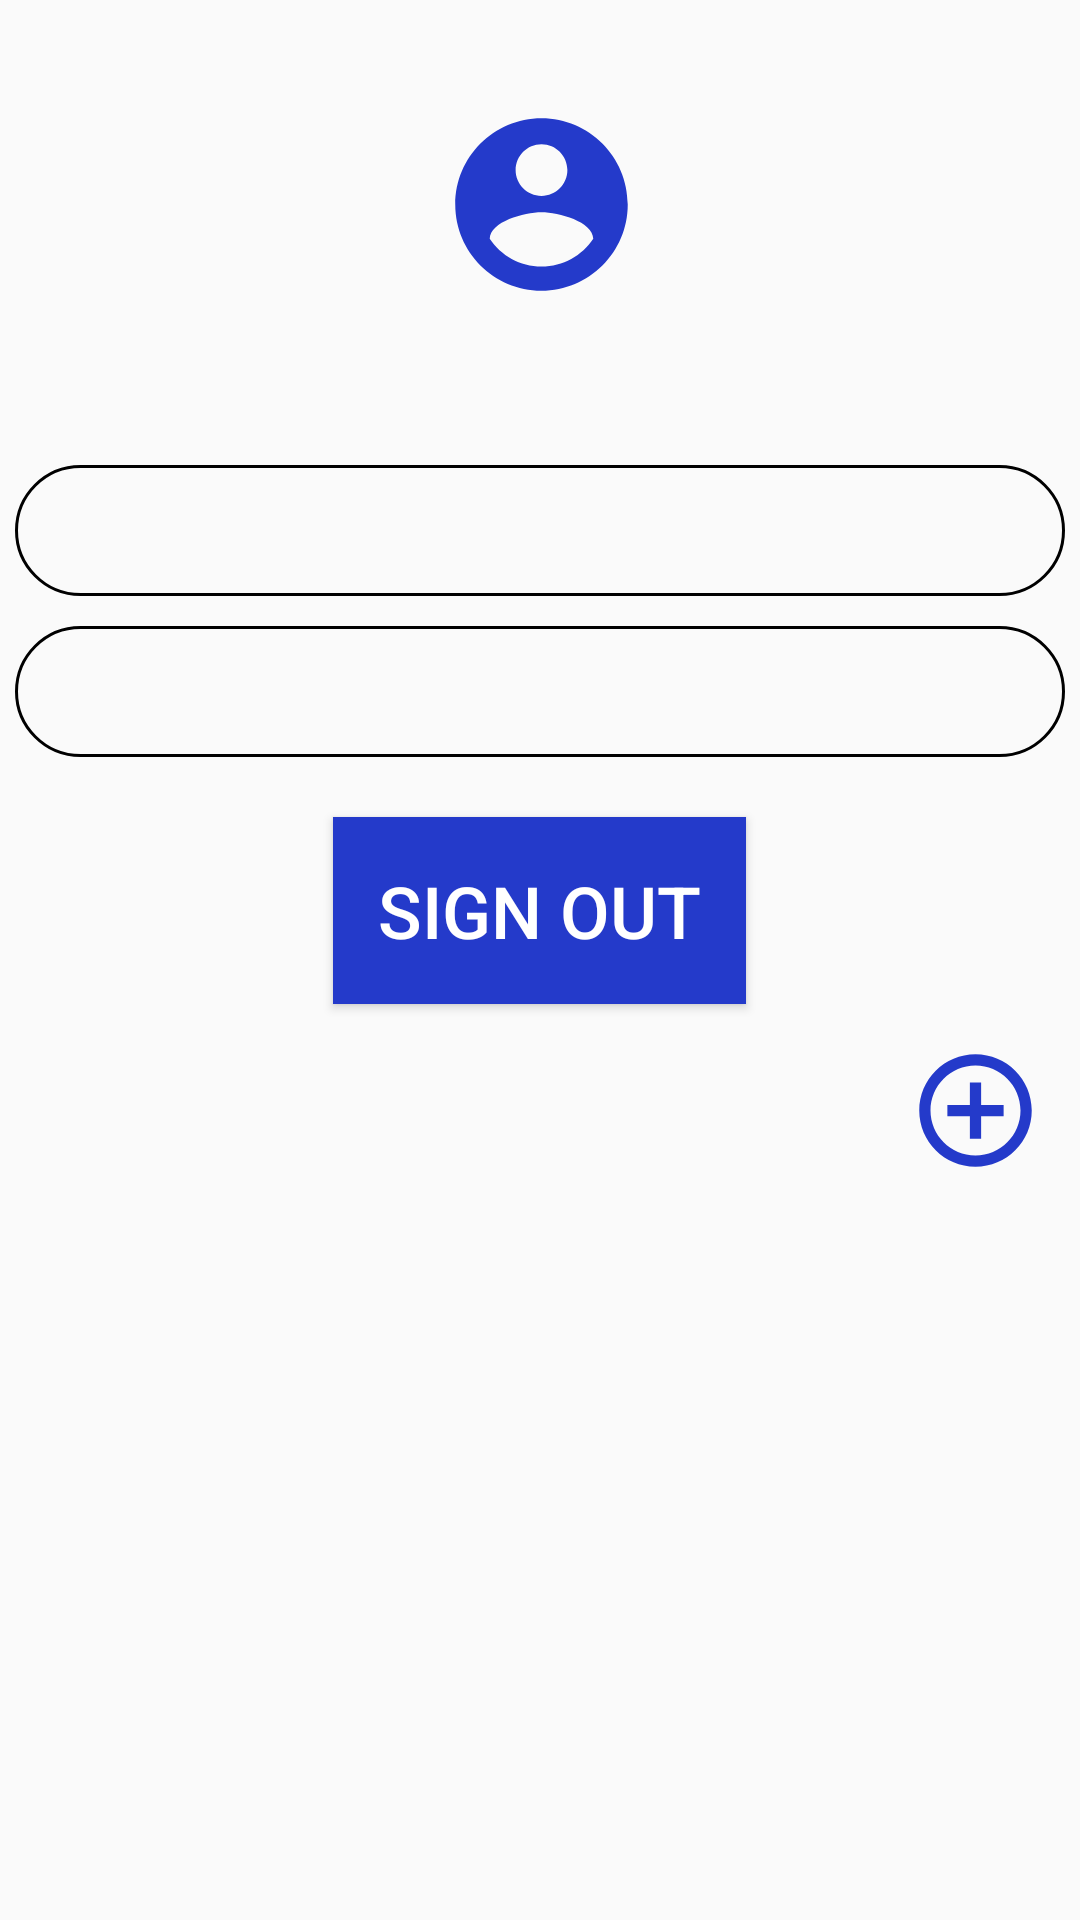

Named icons in this screenshot (1080px x 1920px) and their bounding boxes, (x1, y1, x2, y2):
add new course: (919, 1054, 1032, 1167)
